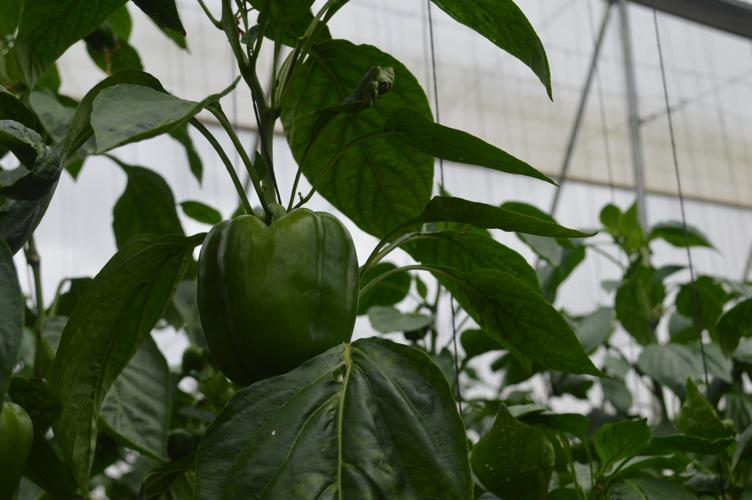BellPepper: (191, 208, 364, 387), (1, 402, 36, 500)
